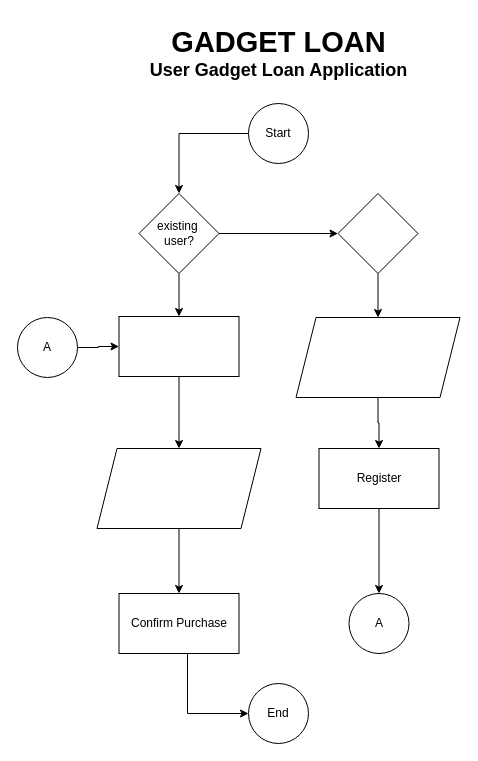
Some shapes in this 478 by 761 pixel diagram are drawn without their labels. Here are the shapes that lost their labels. From the top down, the centre of each, then its label:
(x=377, y=233): create account?
(x=178, y=346): Select Gadget
(x=377, y=357): Input Name, Email, Birthdate, Gender, Phone Number, Address
(x=178, y=488): Select Preferred Loan Tenure
